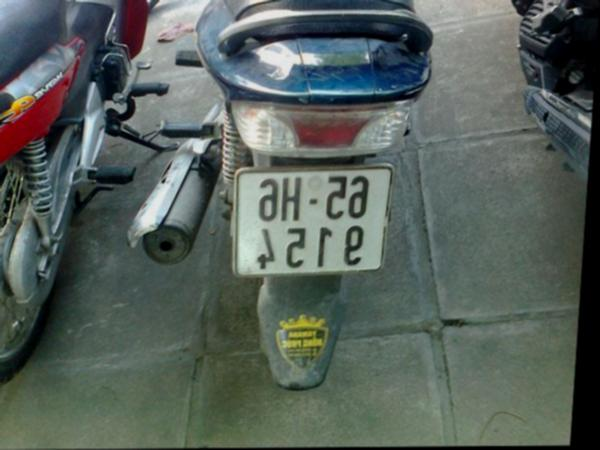License_Plate: (225, 163, 395, 278)
